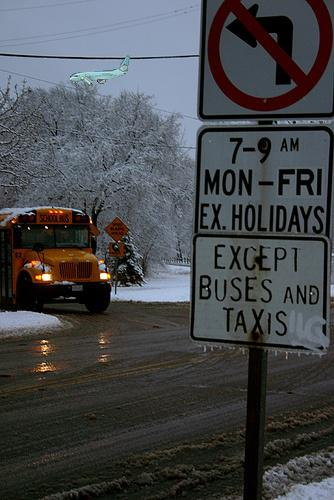tampered: (70, 56, 130, 86)
